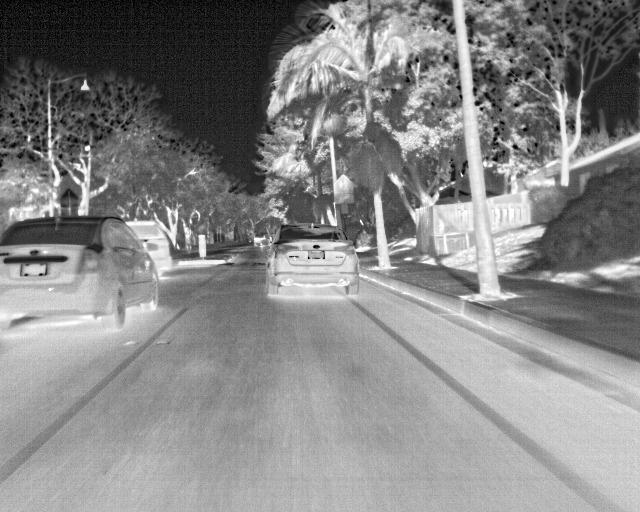car: (1, 214, 157, 331), (266, 222, 359, 298), (124, 220, 175, 276)
